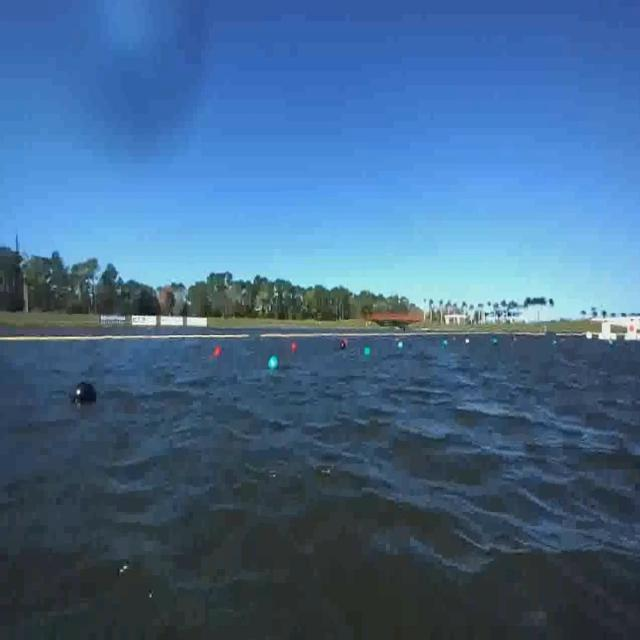black-buoy: (70, 382, 98, 405)
green-buoy: (269, 354, 280, 370)
red-buoy: (210, 342, 228, 362), (290, 338, 299, 358), (291, 343, 297, 352)
